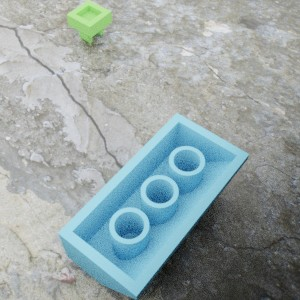lego: (57, 112, 249, 300), (66, 0, 112, 43)
